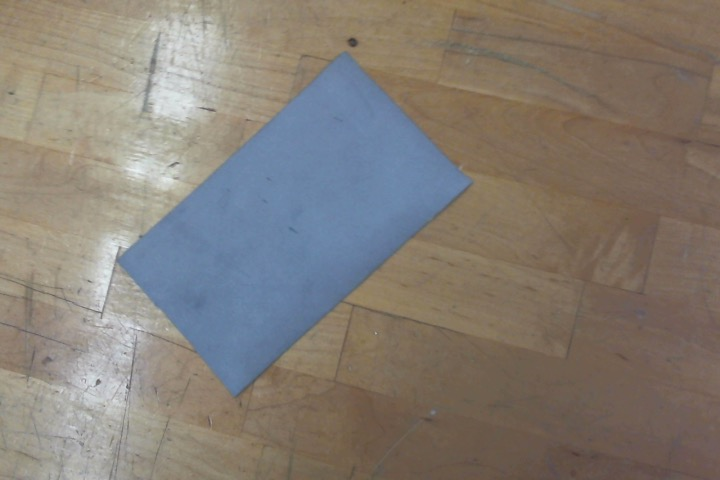Tape: (115, 51, 474, 398)
